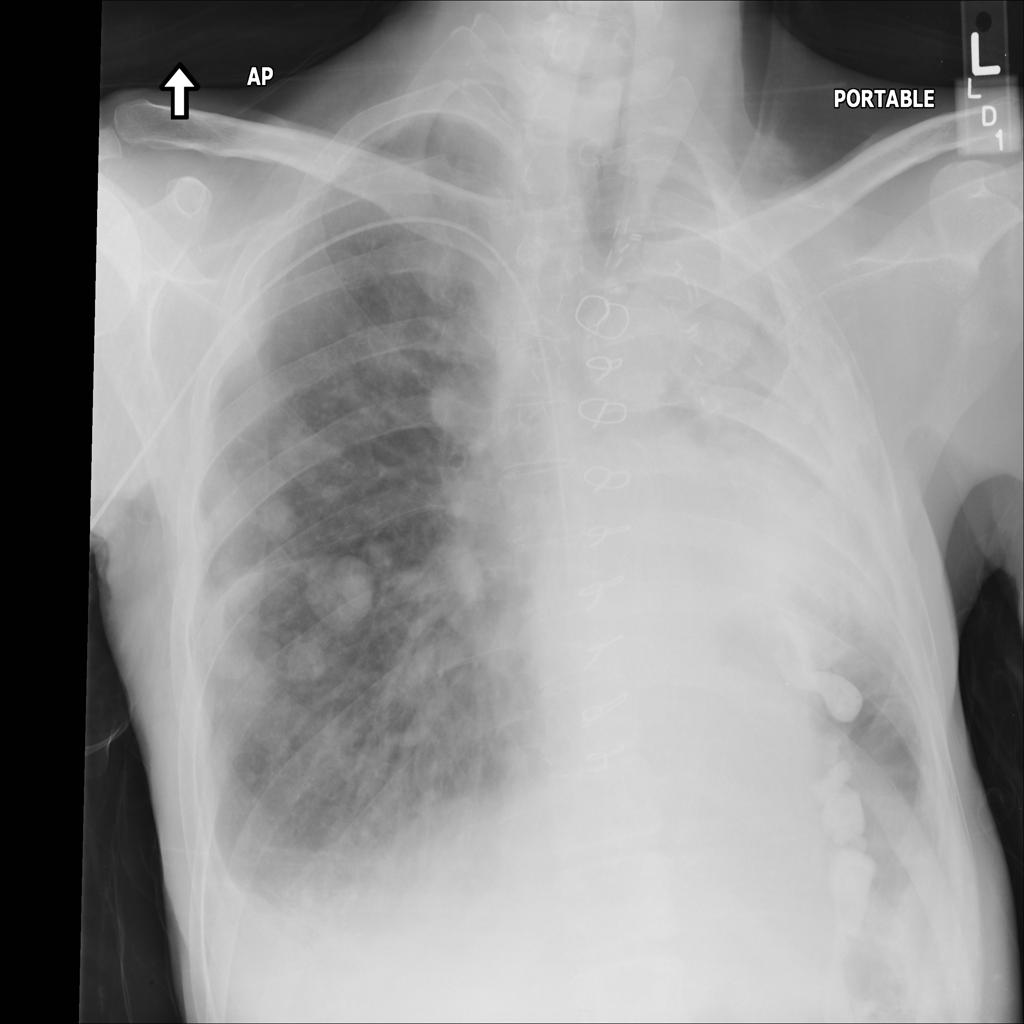nodule: (301, 544, 380, 631), (274, 623, 338, 697), (244, 482, 310, 549), (309, 478, 361, 527)
